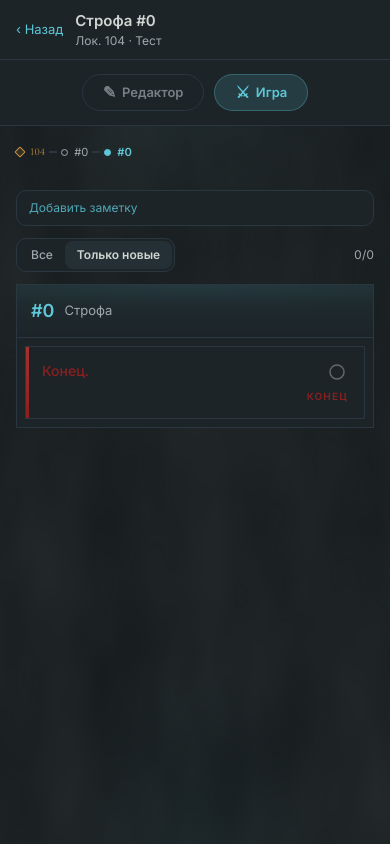
Test: LocationPage: research end await-ack modal › E4 close-after-error — клик Закрыть → модалка dismiss, path цел, нет navigate
Click the text "Конец.": (66, 370) [42,362,89,379]
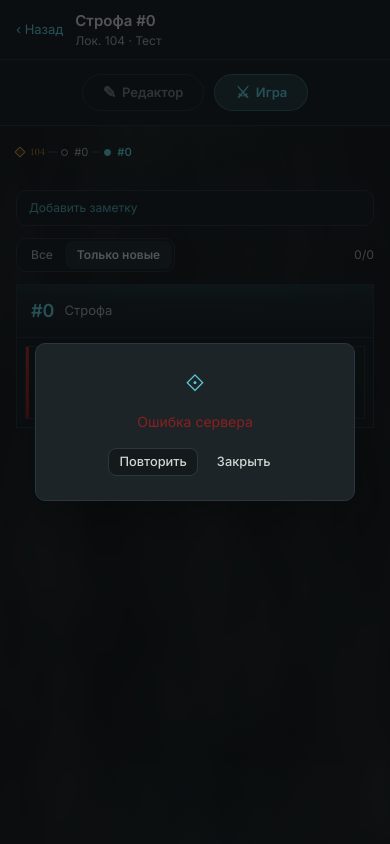
Click the button "Закрыть": (244, 462) [206,448,282,476]
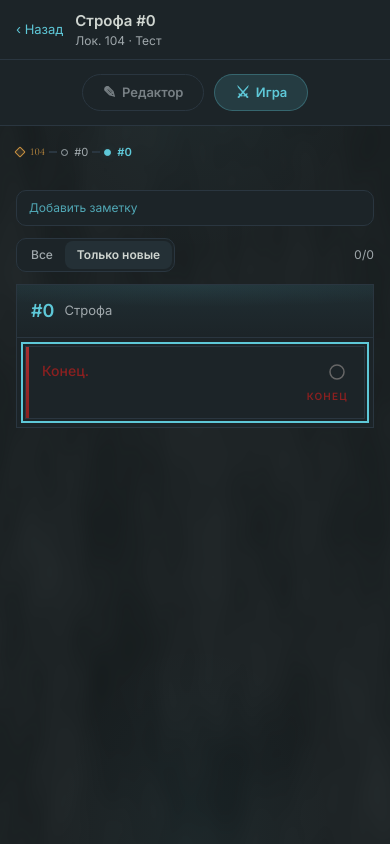
Now the dialog is gone
